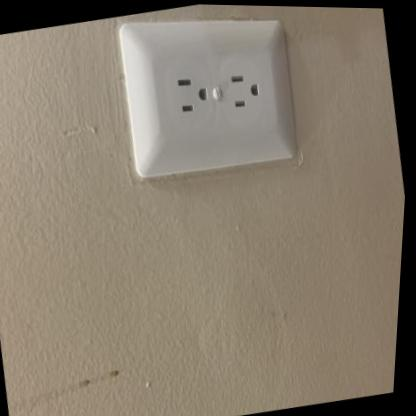OUTLET: (105, 3, 309, 188)
